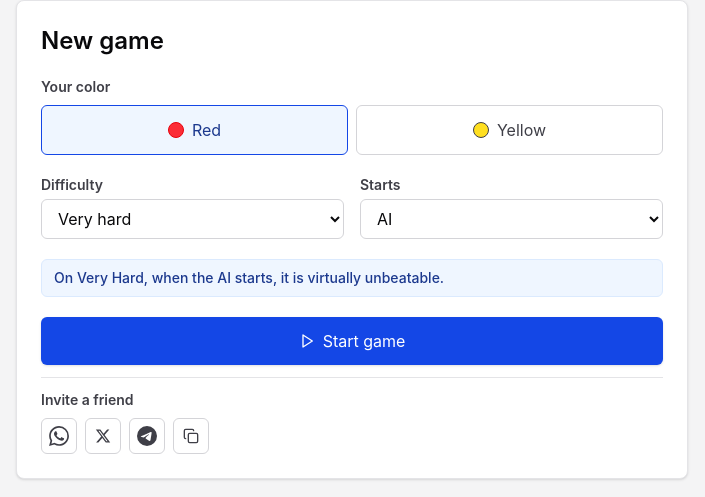
Test case: SetupScreen › shows the very-hard warning only when the AI starts
Check: the text "On Very Hard, when the AI starts, it is virtually unbeatable." is shown, box 41,259 -> 663,297
Select "You" in the dropdown labelled "Starts": (512, 219) 360,199 -> 663,239
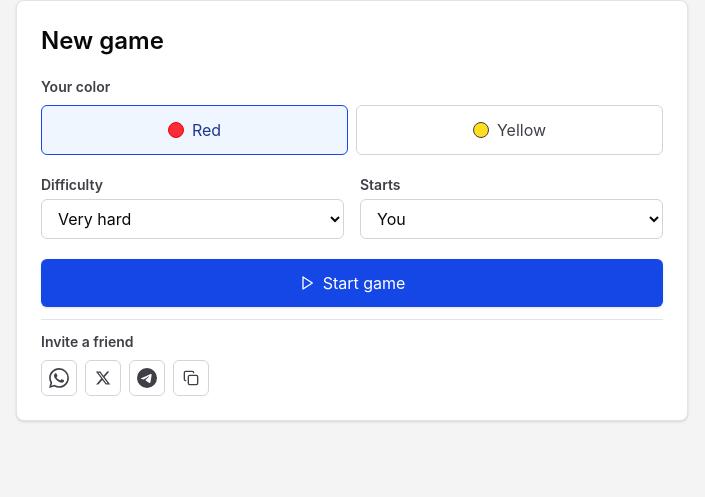
Check: the text "On Very Hard, when the AI starts, it is virtually unbeatable." is gone
Select "AI" in the dropdown labelled "Starts": (512, 219) 360,199 -> 663,239
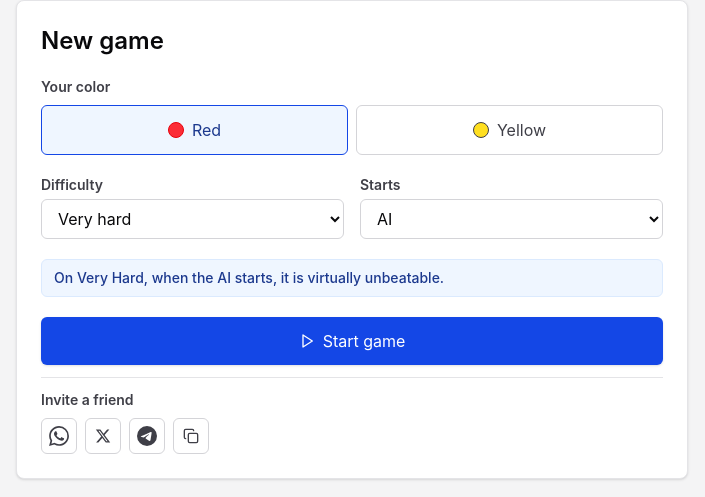
Select "Medium" in the dropdown labelled "Difficulty": (192, 219) 41,199 -> 344,239
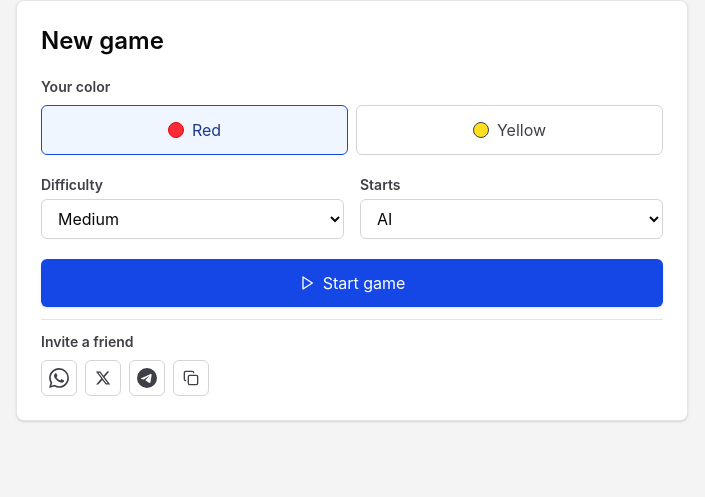
Check: the text "On Very Hard, when the AI starts, it is virtually unbeatable." is gone
Select "Very hard" in the dropdown labelled "Difficulty": (192, 219) 41,199 -> 344,239
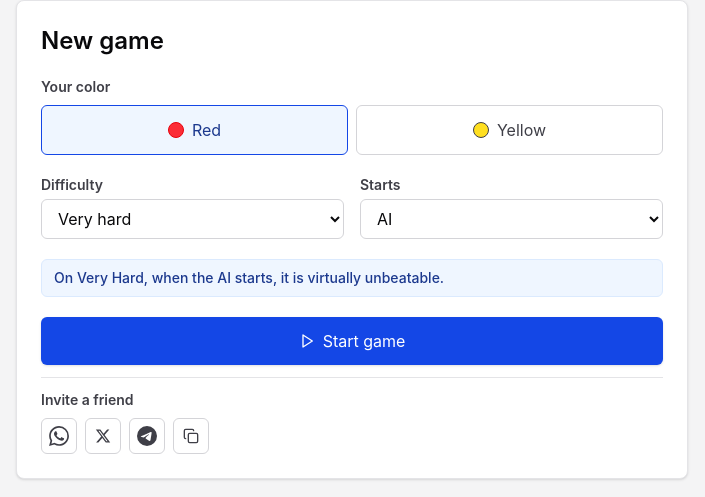
Check: the text "On Very Hard, when the AI starts, it is virtually unbeatable." is shown, box 41,259 -> 663,297
